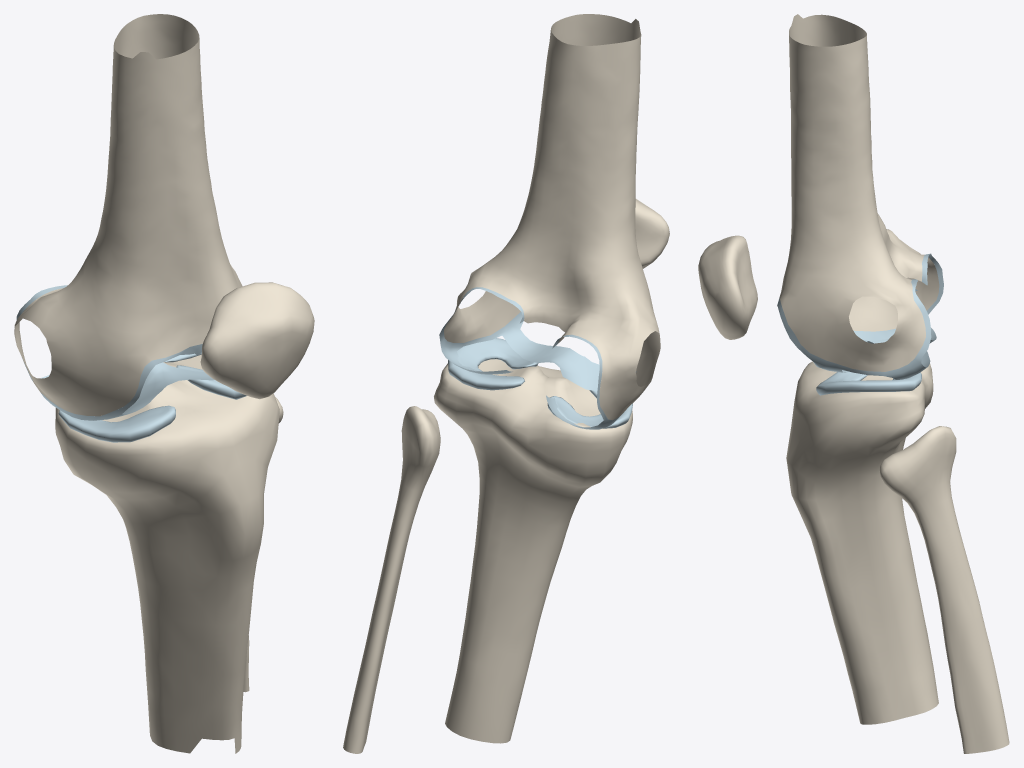
File: knee.mo.glb
3 views of the same model, side by side, from view 1: azimuth 30°, elevation 25°; view 2: azimuth 150°, elevation 25°; view 3: azimuth 270°, elevation 25° (orthographic). The views are drawn at different scales.
Visible parts, largest first — view 1: Femur_distal, Tibia_proximal, Patella, Menisci, Articular_cartilage; view 2: Femur_distal, Tibia_proximal, Fibula_proximal, Articular_cartilage, Menisci, Patella; view 3: Femur_distal, Tibia_proximal, Fibula_proximal, Patella, Articular_cartilage, Menisci.
Boxes of the visible parts, x1,y1,x2,y2 form: Femur_distal: (14,14,242,416); Tibia_proximal: (55,354,279,753); Patella: (200,282,314,399); Menisci: (58,352,246,442); Articular_cartilage: (16,285,214,420); Femur_distal: (444,14,660,420); Tibia_proximal: (434,359,632,743); Fibula_proximal: (343,406,440,753); Articular_cartilage: (439,287,636,429); Menisci: (448,338,632,428); Patella: (635,199,669,268); Femur_distal: (779,14,939,371); Tibia_proximal: (786,361,938,724); Fibula_proximal: (879,426,1009,753); Patella: (698,235,757,339); Articular_cartilage: (777,253,943,379); Menisci: (813,339,921,395).
Bounding box in the file's own units: 0.7453 × 2 × 0.8617.
